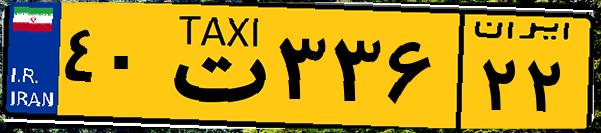0: (110, 28, 158, 98)
2: (475, 38, 525, 113), (525, 38, 570, 115)
3: (270, 28, 330, 110), (330, 28, 385, 110)
4: (57, 26, 110, 100)
6: (385, 28, 445, 110)
ت: (158, 12, 270, 120)
